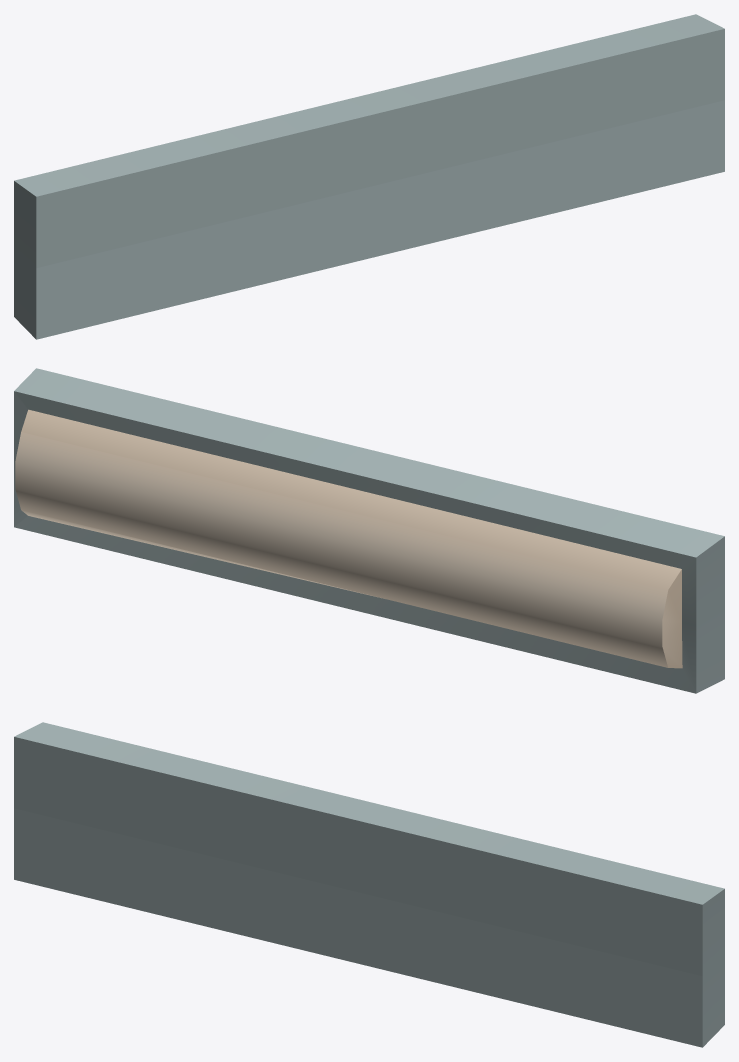
File: squidgame_light_light2.fbx
3 renders of one model, top to bottom at view 1: azimuth 30°, elevation 25°; view 2: azimuth 150°, elevation 25°; view 3: azimuth 330°, elevation 25°, orthographic.
Parts seen in each view (by area): view 1: squidgame_light_light2; view 2: squidgame_light_light2_light, squidgame_light_light2; view 3: squidgame_light_light2.
Part boxes in pixels (x1,y1,x2,y2): squidgame_light_light2: (14, 14, 724, 339); squidgame_light_light2_light: (15, 409, 682, 668); squidgame_light_light2: (14, 368, 724, 693); squidgame_light_light2: (14, 722, 724, 1047).
Size of the model in its own units: 0.7033 by 0.1395 by 0.074.
